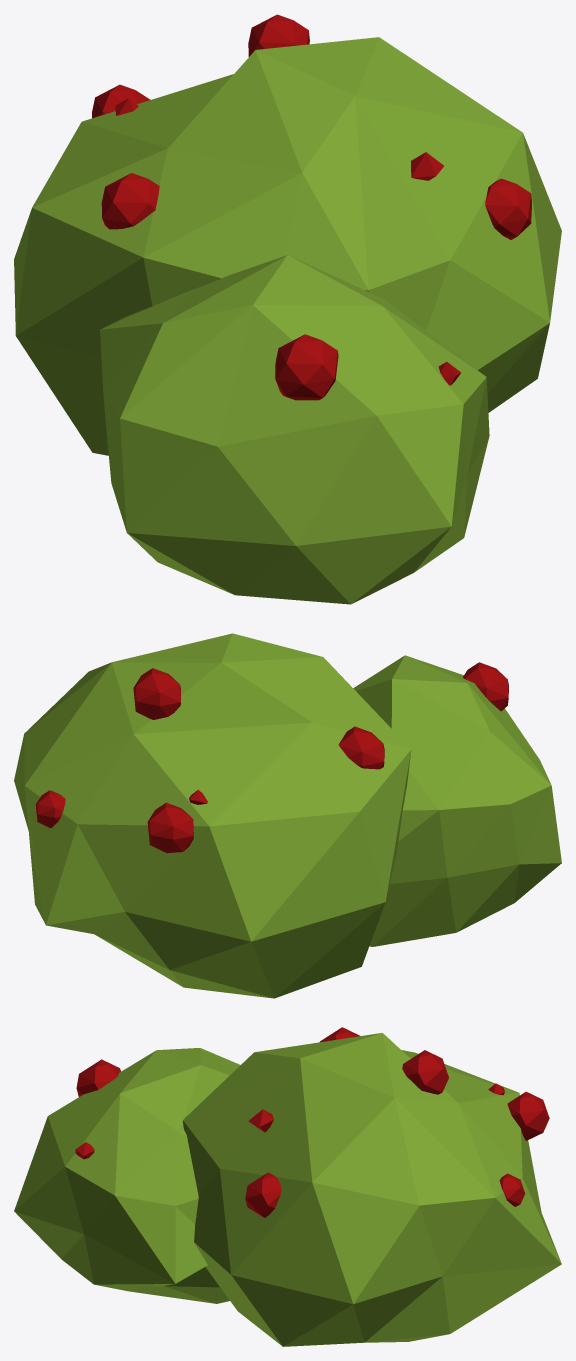
Rendered from bush2.obj.
3 renders of one model, top to bottom at view 1: azimuth 30°, elevation 25°; view 2: azimuth 150°, elevation 25°; view 3: azimuth 270°, elevation 25°, orthographic. The views are drawn at different scales.
Visible parts, largest first — view 1: Icosphere, Icosphere.001, Icosphere.005, Icosphere.004, Icosphere.008, Icosphere.003, Icosphere.007; view 2: Icosphere, Icosphere.001, Icosphere.003, Icosphere.007, Icosphere.004, Icosphere.005, Icosphere.009; view 3: Icosphere, Icosphere.001, Icosphere.003, Icosphere.007, Icosphere.008, Icosphere.005, Icosphere.009.
Boxes of the visible parts, bbox=[...] form: Icosphere: bbox=[14, 37, 561, 455]; Icosphere.001: bbox=[100, 255, 489, 604]; Icosphere.005: bbox=[275, 334, 338, 400]; Icosphere.004: bbox=[101, 173, 159, 229]; Icosphere.008: bbox=[485, 178, 531, 239]; Icosphere.003: bbox=[248, 14, 309, 56]; Icosphere.007: bbox=[92, 84, 150, 118]; Icosphere: bbox=[14, 633, 411, 998]; Icosphere.001: bbox=[353, 655, 561, 946]; Icosphere.003: bbox=[133, 668, 180, 719]; Icosphere.007: bbox=[147, 802, 193, 853]; Icosphere.004: bbox=[338, 726, 384, 769]; Icosphere.005: bbox=[463, 662, 508, 711]; Icosphere.009: bbox=[36, 790, 65, 828]; Icosphere: bbox=[183, 1033, 561, 1346]; Icosphere.001: bbox=[14, 1048, 240, 1303]; Icosphere.003: bbox=[402, 1050, 448, 1094]; Icosphere.007: bbox=[507, 1091, 549, 1140]; Icosphere.008: bbox=[245, 1172, 281, 1217]; Icosphere.005: bbox=[76, 1059, 120, 1096]; Icosphere.009: bbox=[499, 1173, 525, 1206].
Size of the model in its own units: 1.84 by 1.2 by 2.13.
